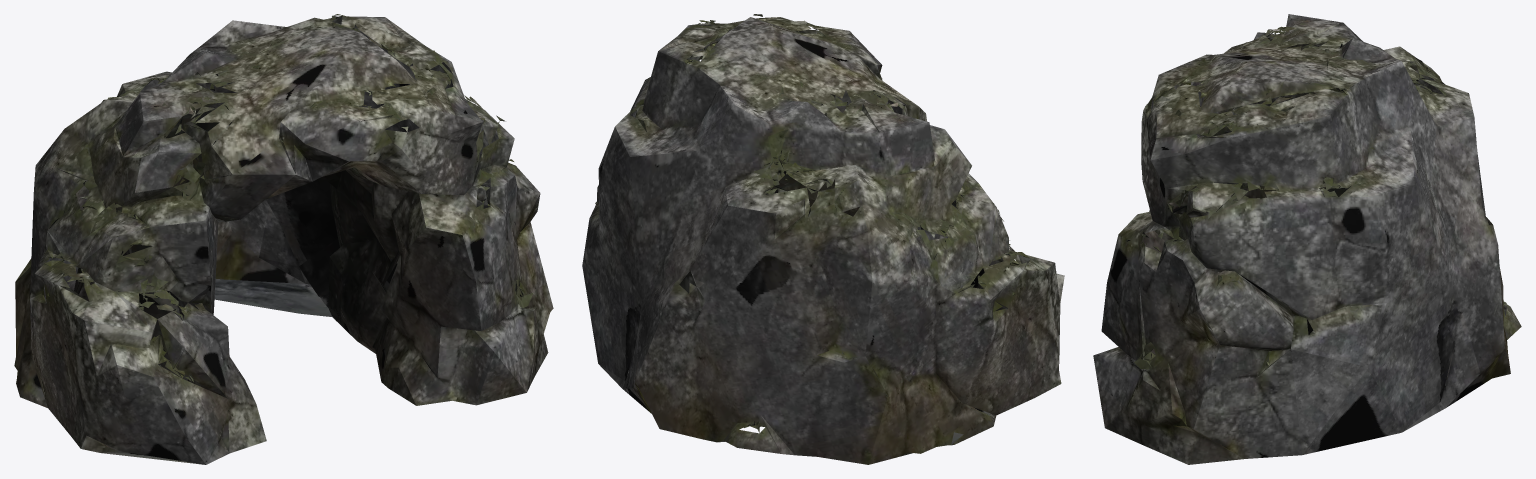
File: cave-arch.glb
3 renders of one model, left to right at view 1: azimuth 30°, elevation 25°; view 2: azimuth 150°, elevation 25°; view 3: azimuth 270°, elevation 25°, orthographic. The views are drawn at different scales.
Parts seen in each view (by area): view 1: cave-arch; view 2: cave-arch; view 3: cave-arch.
Boxes of the visible parts, x1,y1,x2,y2 form: cave-arch: (14, 14, 553, 464); cave-arch: (582, 14, 1064, 464); cave-arch: (1093, 14, 1521, 464).
Bounding box in the file's own units: 8.15 × 5.39 × 6.58.
1 material, 1 textured.
